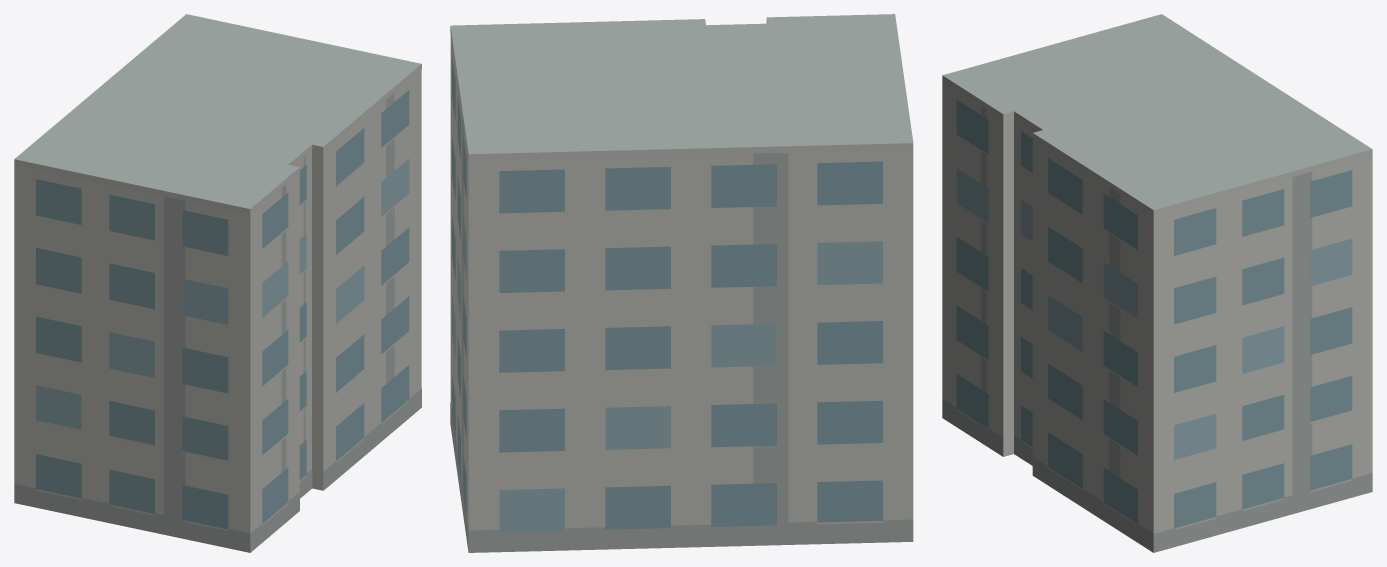
Rendered from residential-3f105d24-d173-4ba3-b735-4ac6eca6c7a6.glb.
3 views of the same model, side by side, from view 1: azimuth 30°, elevation 25°; view 2: azimuth 150°, elevation 25°; view 3: azimuth 270°, elevation 25° (orthographic). The views are drawn at different scales.
Visible parts, largest first — view 1: residential-3f105d24-d173-4ba3-b735-4ac6eca6c7a6.tmp; view 2: residential-3f105d24-d173-4ba3-b735-4ac6eca6c7a6.tmp; view 3: residential-3f105d24-d173-4ba3-b735-4ac6eca6c7a6.tmp.
Part boxes in pixels (box(x1,y1,x2,y2)): residential-3f105d24-d173-4ba3-b735-4ac6eca6c7a6.tmp: box(14, 14, 421, 552); residential-3f105d24-d173-4ba3-b735-4ac6eca6c7a6.tmp: box(450, 14, 913, 552); residential-3f105d24-d173-4ba3-b735-4ac6eca6c7a6.tmp: box(942, 14, 1372, 552).
Size of the model in its own units: 18.3 by 14.9 by 16.96.
